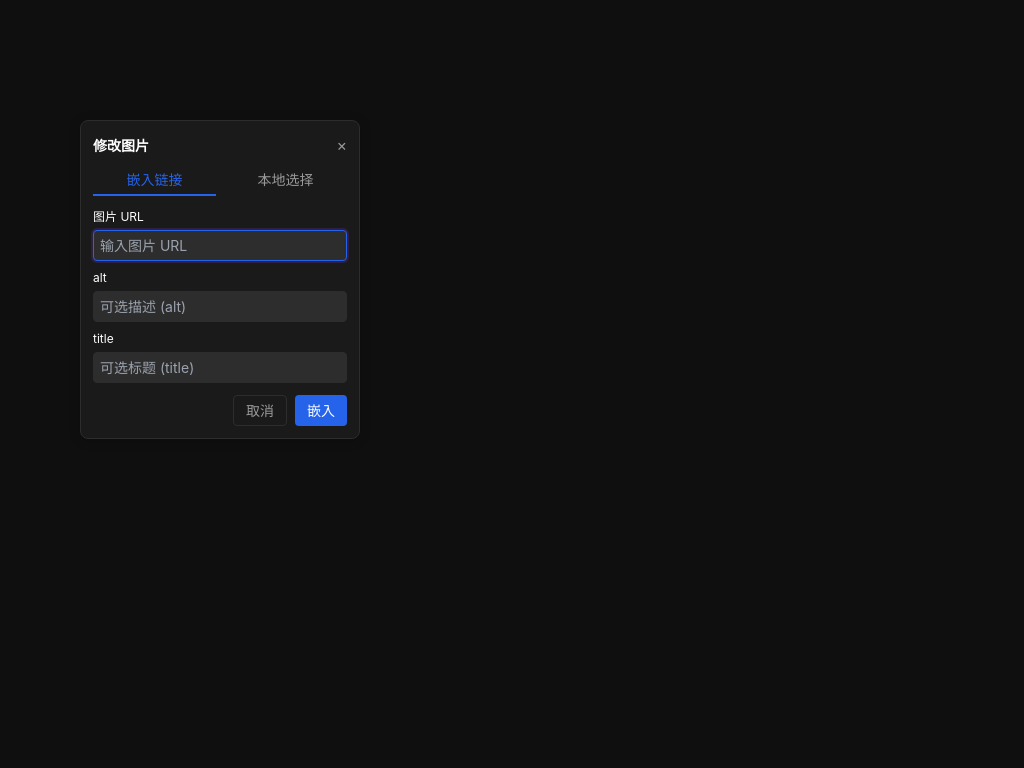
Test: ImageEditTool — link Tab 提交/校验/Escape › 空 src 点「嵌入」→ 提示错误且不提交
This screenshot has width=1024, height=768.
Click the button "嵌入": (321, 410) top-left (295, 395), bottom-right (347, 426)
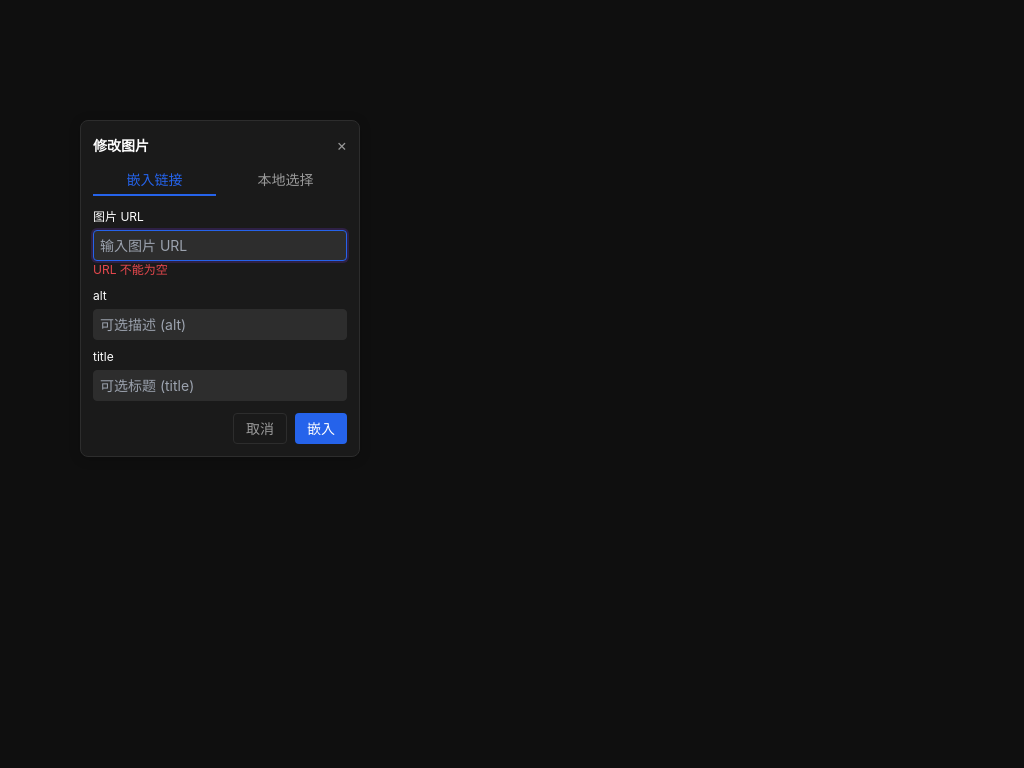
Check: the text "URL 不能为空" is shown, box top-left (93, 262), bottom-right (168, 277)
